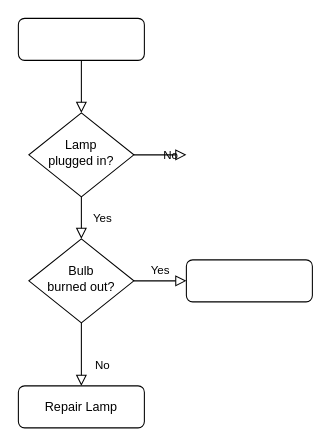
This 331x446 diagram has some shape labels left out. The centre of each missing label's shape, as x and y in pixels:
"Lamp doesn't work" belongs at pixel 80 38.
"Replace Bulb" belongs at pixel 248 280.
